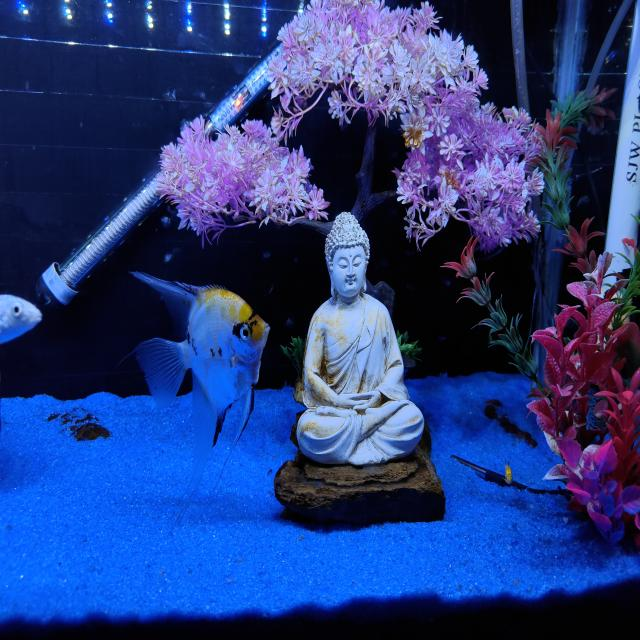Fish: (132, 273, 269, 523), (0, 295, 42, 343), (504, 461, 514, 485)
